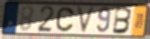2: (37, 5, 56, 34)
8: (18, 5, 36, 33)
9: (96, 6, 112, 35)
B: (111, 7, 134, 35)
C: (55, 6, 76, 33)
V: (75, 5, 97, 36)
